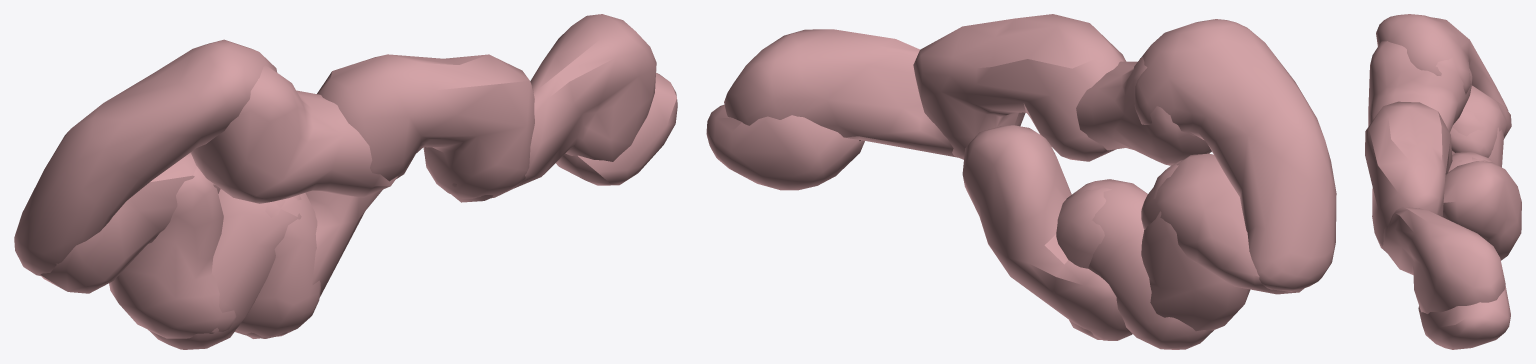
The model's file is fma14965_cx16.glb.
3 renders of one model, left to right at view 1: azimuth 30°, elevation 25°; view 2: azimuth 150°, elevation 25°; view 3: azimuth 270°, elevation 25°, orthographic. The views are drawn at different scales.
Visible parts, largest first — view 1: FMA14965_CX16; view 2: FMA14965_CX16; view 3: FMA14965_CX16.
Boxes of the visible parts, x1,y1,x2,y2 form: FMA14965_CX16: [14, 14, 677, 349]; FMA14965_CX16: [706, 14, 1336, 349]; FMA14965_CX16: [1365, 14, 1521, 349].
Size of the model in its own units: 0.1428 by 0.0689 by 0.0412.
